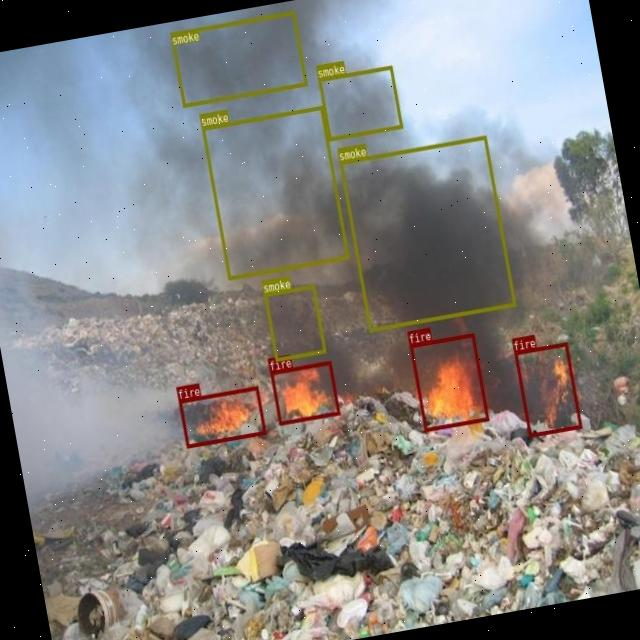fire: (409, 332, 488, 432), (514, 342, 580, 436), (178, 385, 266, 447), (269, 360, 340, 425)
smoke: (338, 136, 516, 332), (200, 106, 348, 280), (169, 10, 307, 107), (317, 65, 402, 140), (262, 284, 326, 361)
